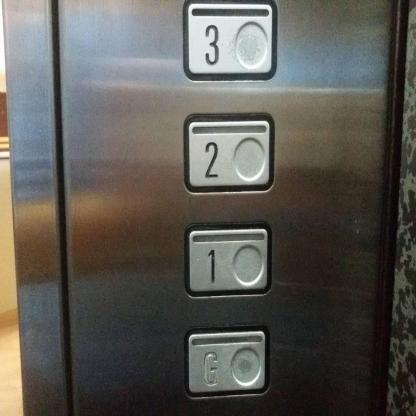1: (182, 219, 273, 298)
2: (181, 110, 276, 193)
3: (182, 0, 279, 84)
G: (182, 323, 272, 400)
